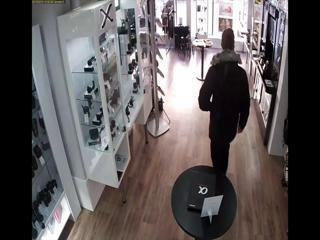Normal: (56, 0, 136, 197), (198, 34, 252, 176)
